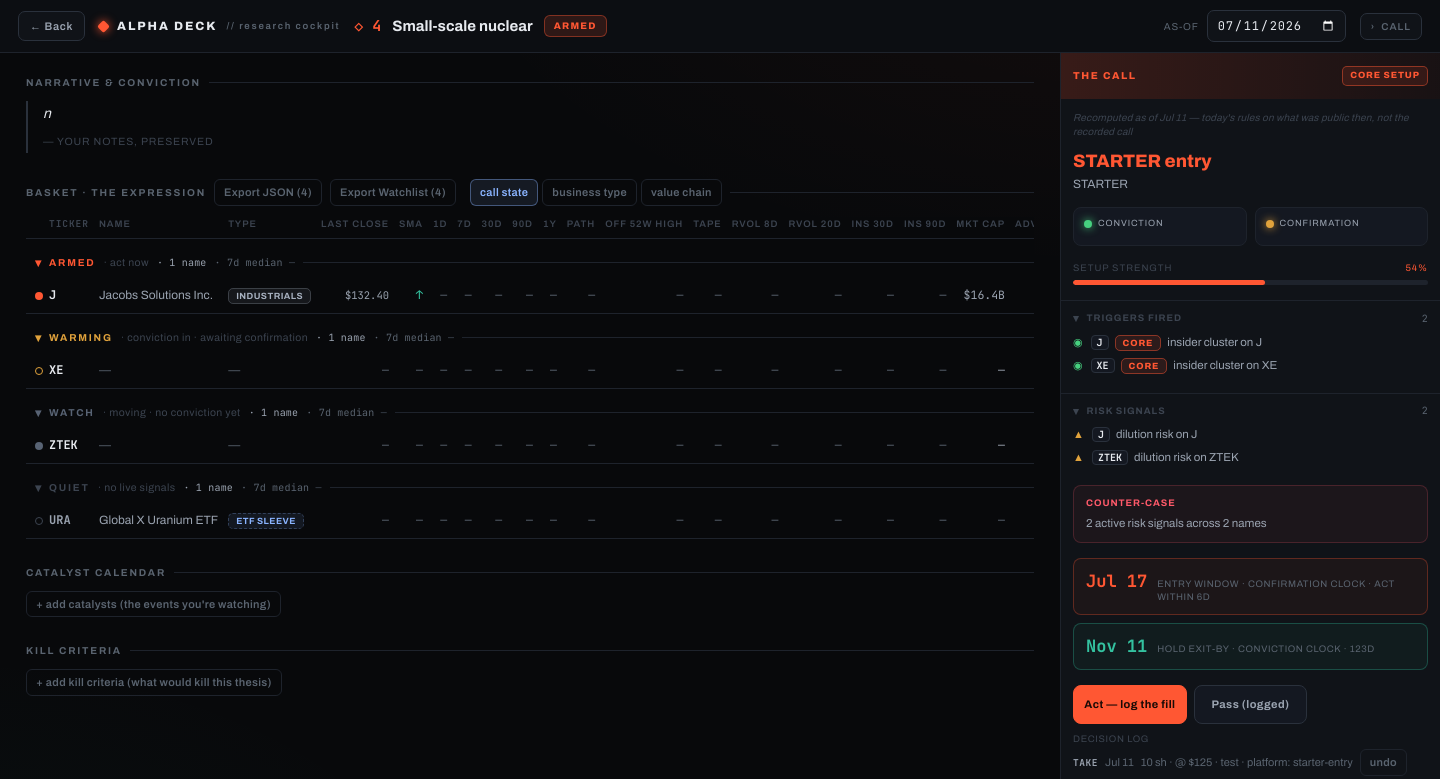
Test case: Cockpit — the per-name panel › degrades honestly on the verdict-less buckets: watch keeps its confirmation clock, quiet says so
This screenshot has width=1440, height=779.
Click the row "ZTEK — — — — — — — — — — — — — — — — — — — —". click: (617, 445)
box: [26,427,1208,463]
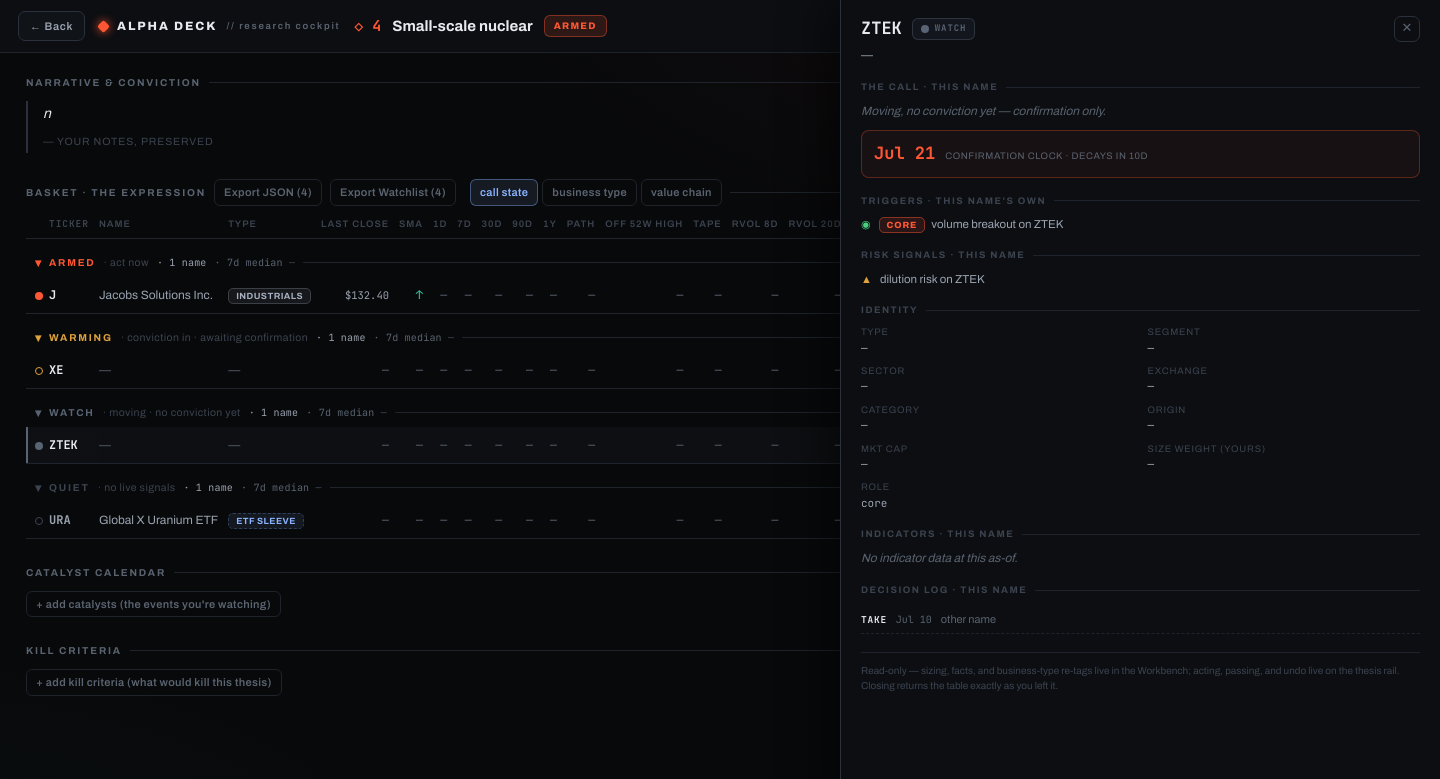
expect the text "Moving, no conviction yet — confirmation only." is shown: met, box [861,104,1106,118]
expect the text "Confirmation clock · decays in 10d" is shown: met, box [945,150,1148,163]
expect the text "volume breakout on ZTEK" is shown: met, box [931,218,1063,230]
Click the row that starts with "URA". click: (617, 520)
box: [26,502,1208,538]
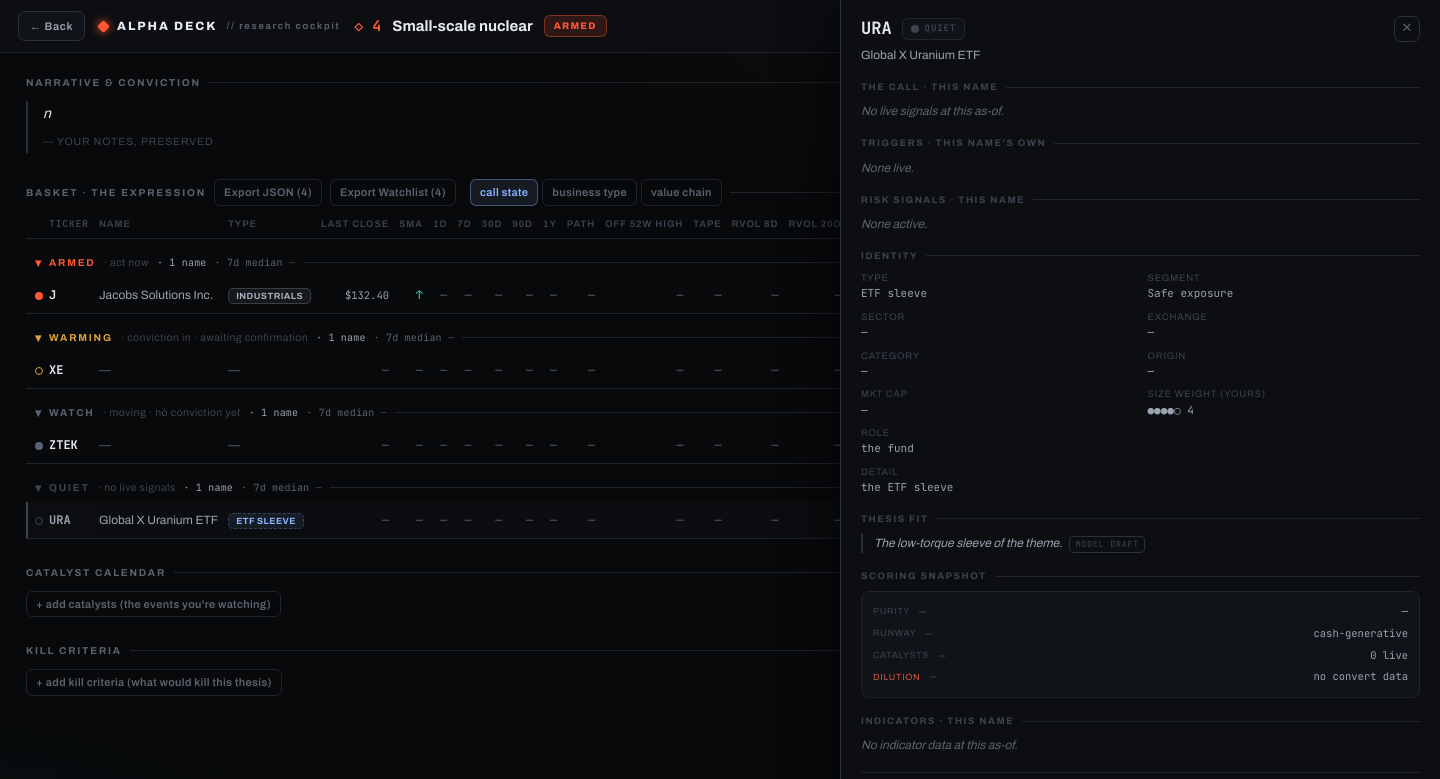
expect the text "No live signals at this as-of." is shown: met, box [861,104,1004,118]
expect the text "None live." is shown: met, box [861,160,914,174]
expect the text "None active." is shown: met, box [861,217,927,231]
